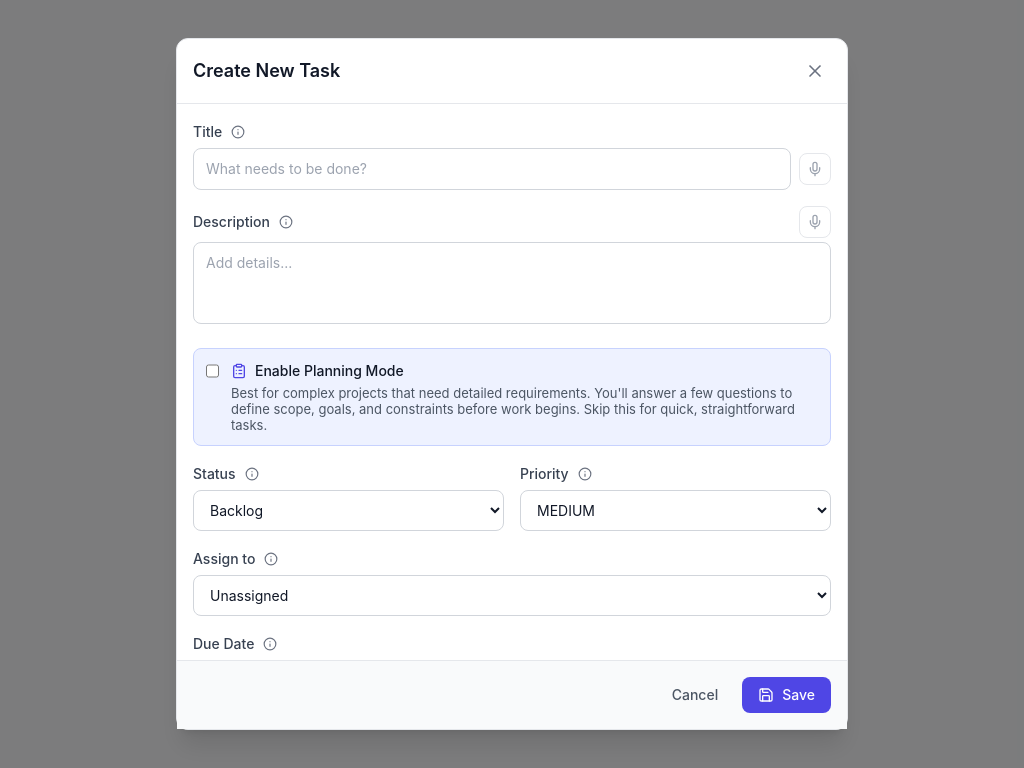
Scenario: TaskModal — creation cannot claim done/review › a refused create shows the server `hint` in the error banner (no dead-end 403)
This screenshot has width=1024, height=768.
Type "Refused create" into the field with placeholder "What needs to be done?".
click(492, 169); type("Refused create")  # box [193,148,791,190]
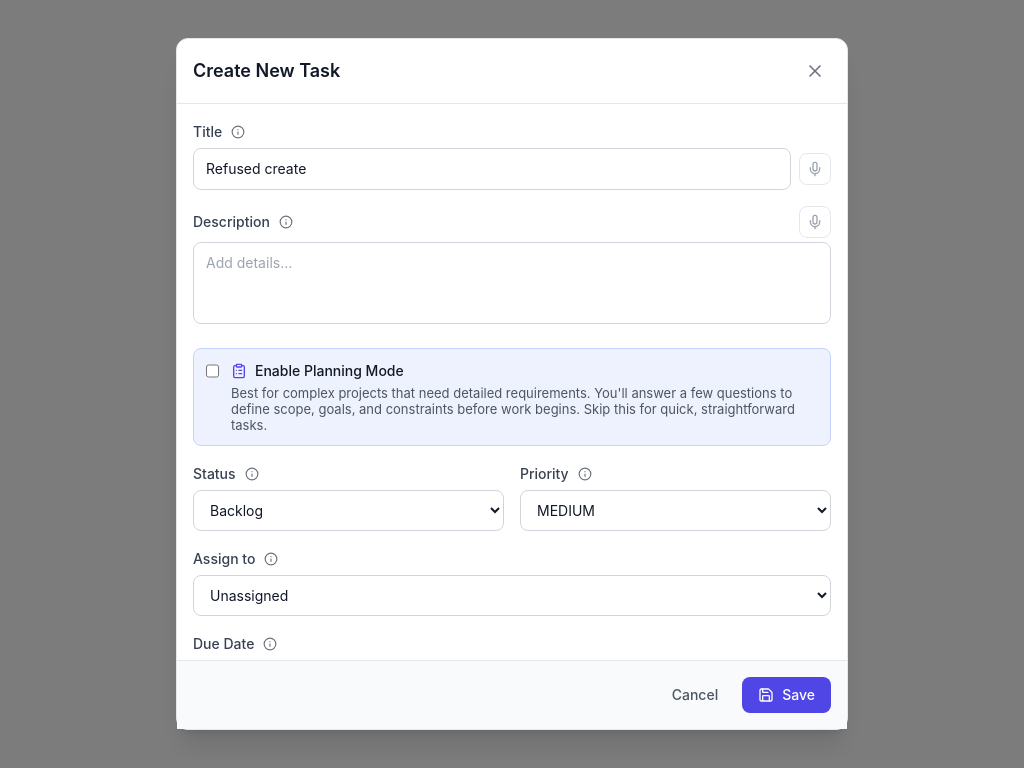
Click the button "Save".
click(787, 695)  # box [742,677,831,713]
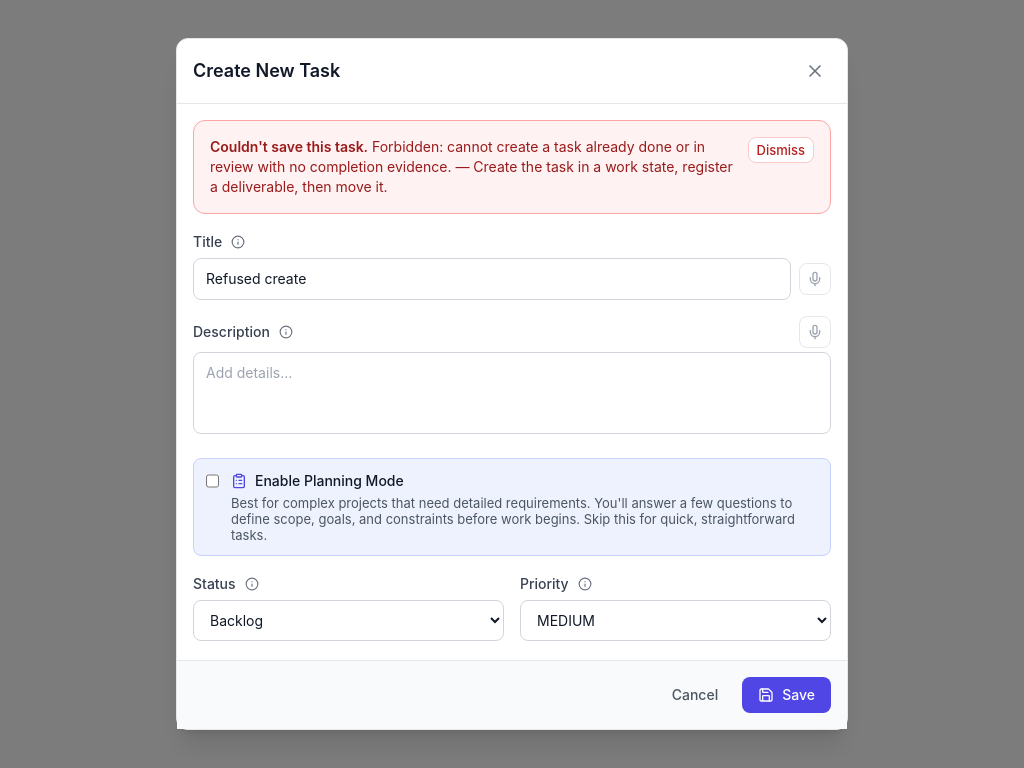
Result: the message with test id "task-save-error" shows "cannot create a task already done or in review" at [210,138,733,195]
Result: the message with test id "task-save-error" shows "register a deliverable, then move it" at [210,138,733,195]
